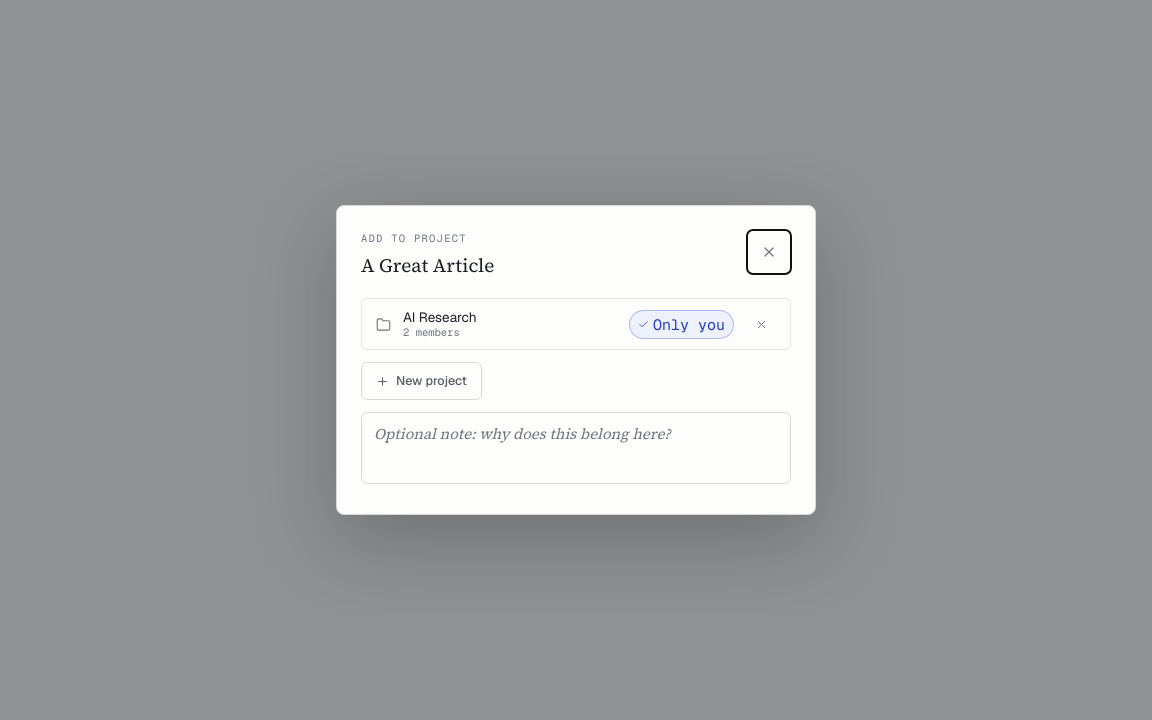
Test: <ProjectPickerModal> › shows an error when removal fails
Step 1. Click the button titled "Remove from project" → (761, 324), box [746,309,776,339]
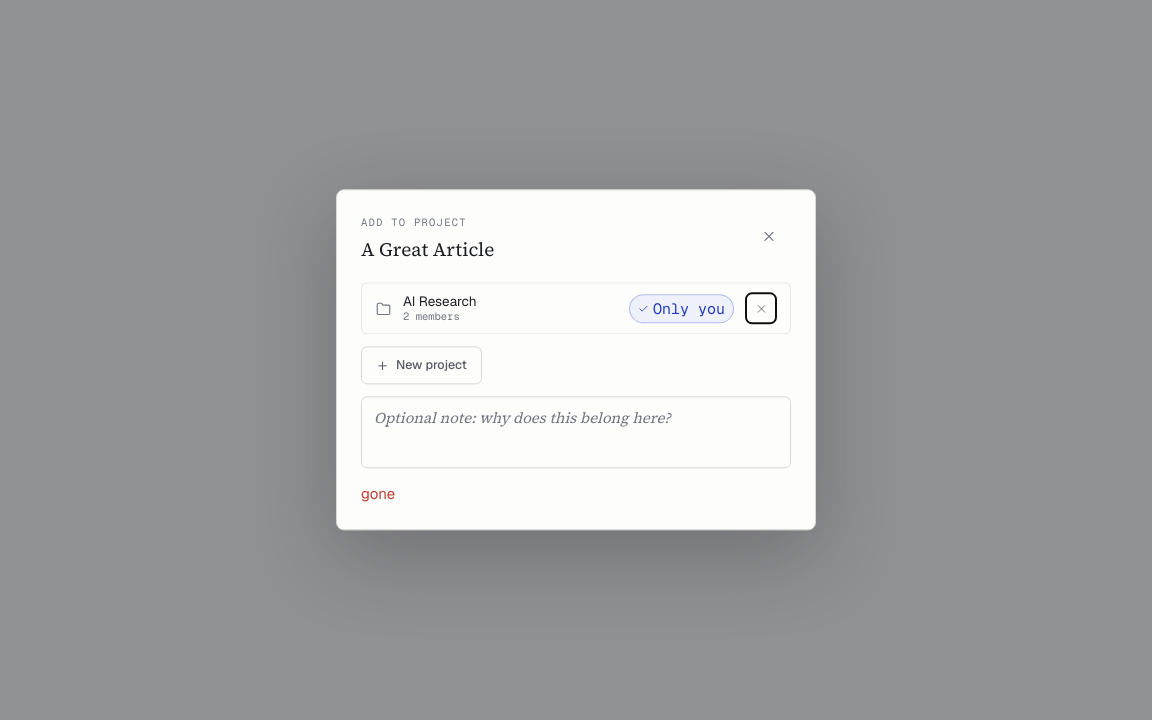
Result: the text "gone" is shown at [361,484,395,503]
